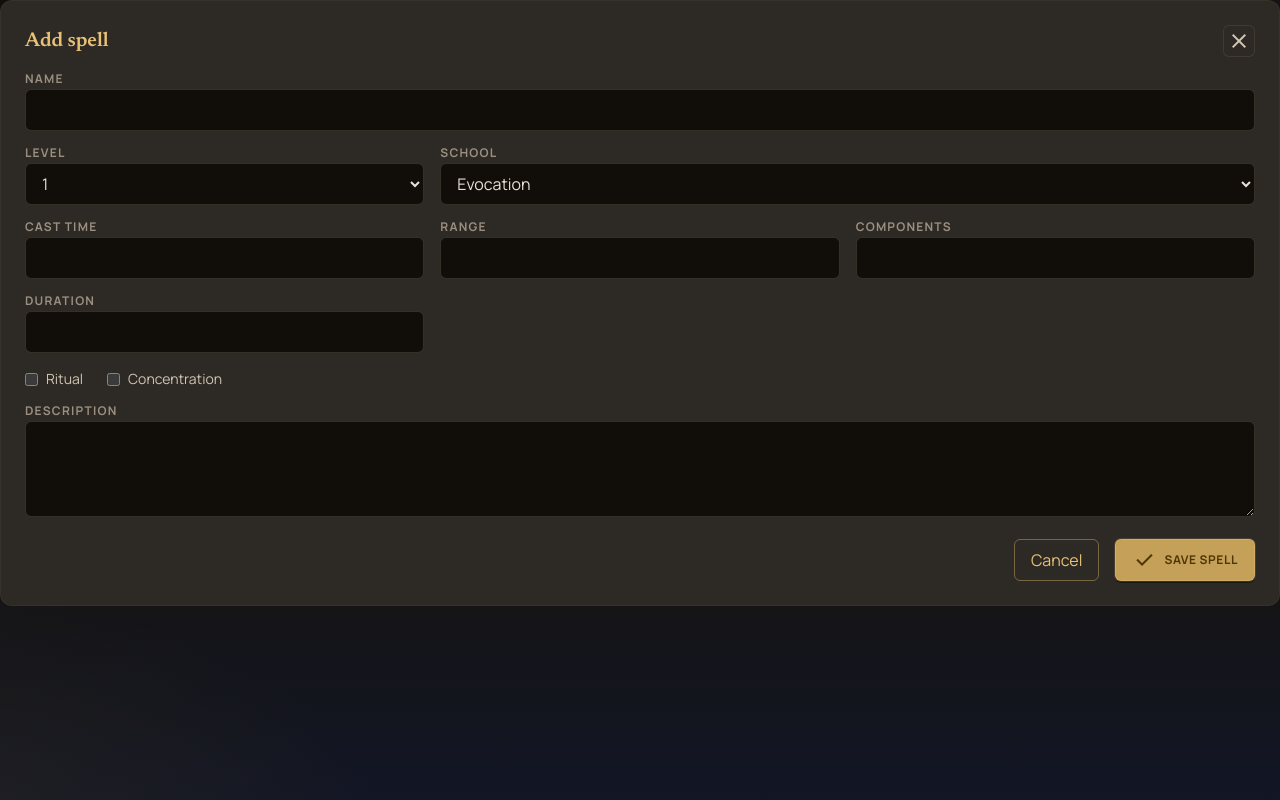
SpellForm › requires a name
The width and height of the screenshot is (1280, 800).
Click the button "Save spell": coordinates (1185, 560) [1115, 539, 1255, 581]
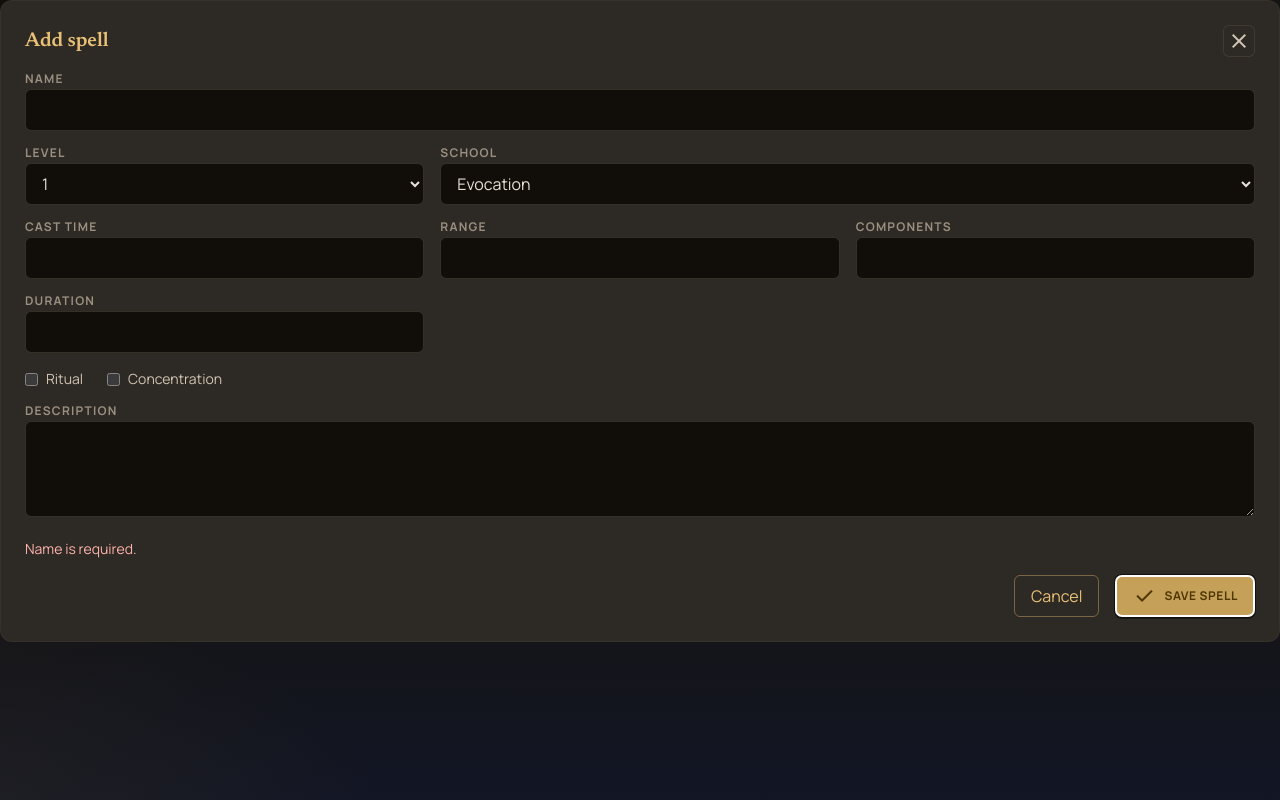
Expected: the message shows "Name is required", [25, 539, 136, 558]
